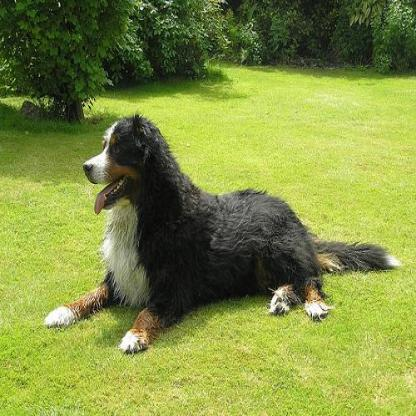Bernese_mountain_dog: (41, 110, 402, 356)
